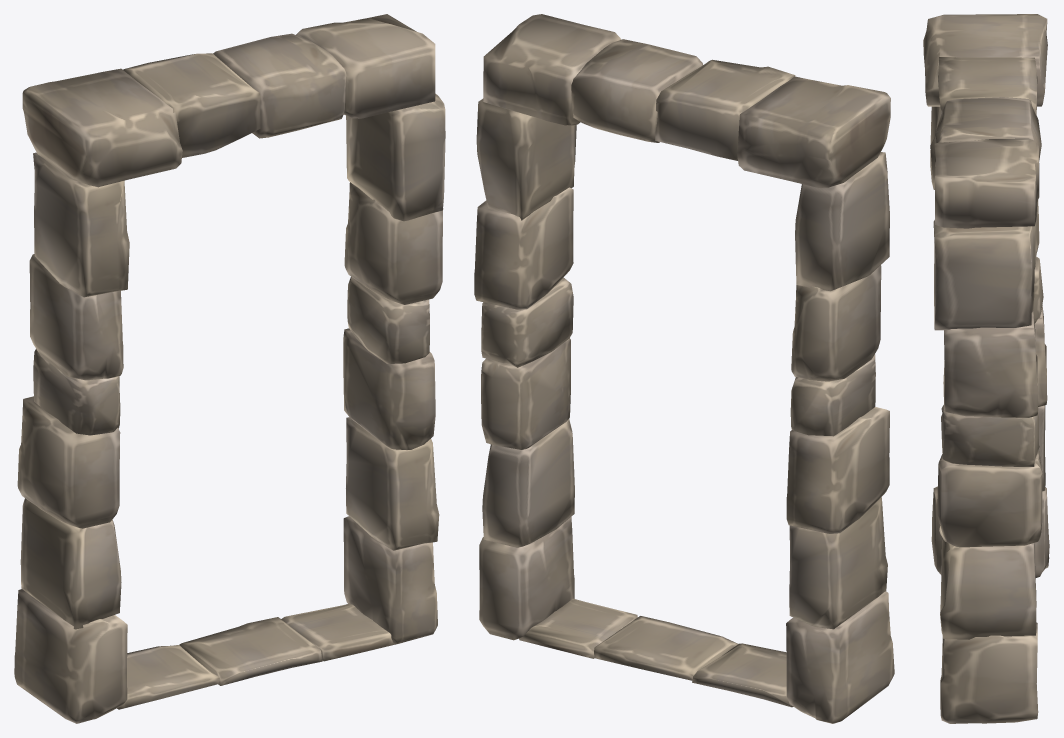
Rendered from DoorFrame_Flat_Brick.gltf.
3 renders of one model, left to right at view 1: azimuth 30°, elevation 25°; view 2: azimuth 150°, elevation 25°; view 3: azimuth 270°, elevation 25°, orthographic. The views are drawn at different scales.
Parts seen in each view (by area): view 1: DoorFrame_Flat_Brick; view 2: DoorFrame_Flat_Brick; view 3: DoorFrame_Flat_Brick.
Part boxes in pixels (x1,y1,x2,y2): DoorFrame_Flat_Brick: (14, 14, 445, 723); DoorFrame_Flat_Brick: (474, 14, 894, 723); DoorFrame_Flat_Brick: (923, 14, 1049, 723).
Bounding box in the file's own units: 1.57 × 2.38 × 0.4943.
1 material, 1 textured.
